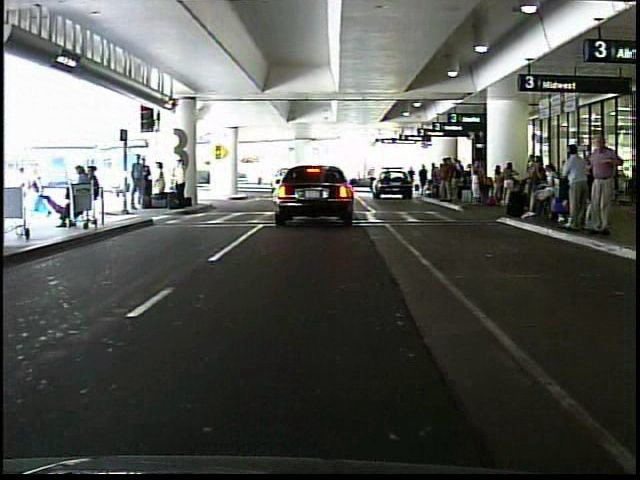person: (582, 133, 621, 239), (557, 141, 591, 234), (125, 151, 148, 212), (20, 162, 39, 222), (173, 157, 188, 207), (154, 159, 170, 204), (418, 161, 429, 193), (407, 161, 417, 192)
